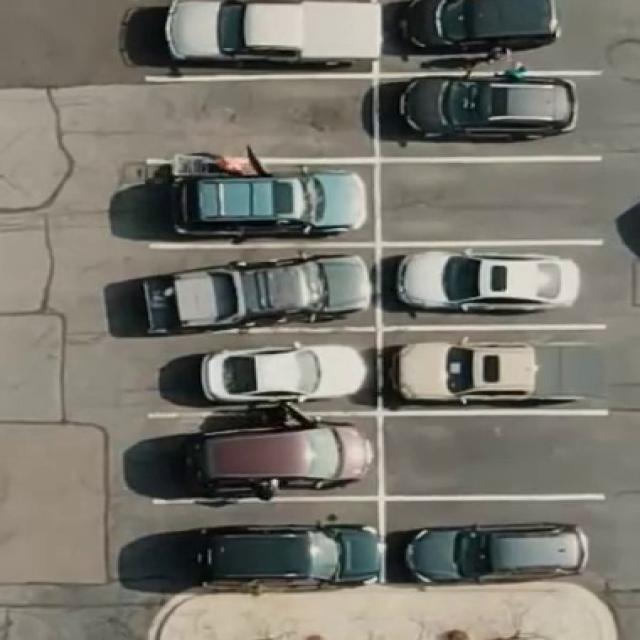empty: (380, 159, 609, 242), (144, 78, 374, 156), (383, 416, 611, 494)
notEmpty: (384, 327, 610, 412), (144, 247, 378, 329), (152, 328, 380, 412), (146, 162, 378, 243), (379, 77, 605, 157), (156, 500, 382, 580), (386, 500, 608, 580), (157, 418, 380, 497), (384, 246, 608, 324), (144, 0, 372, 76), (378, 0, 602, 71)
